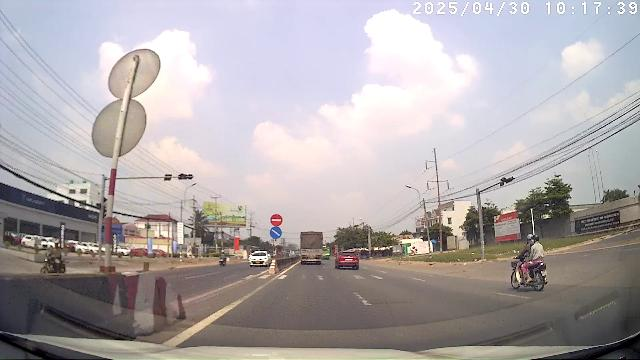102-cam-di-nguoc-chieu: (270, 213, 283, 226)
302a-huong-phai-di-vong-chuong-ngai-vat-1: (270, 226, 282, 239)
